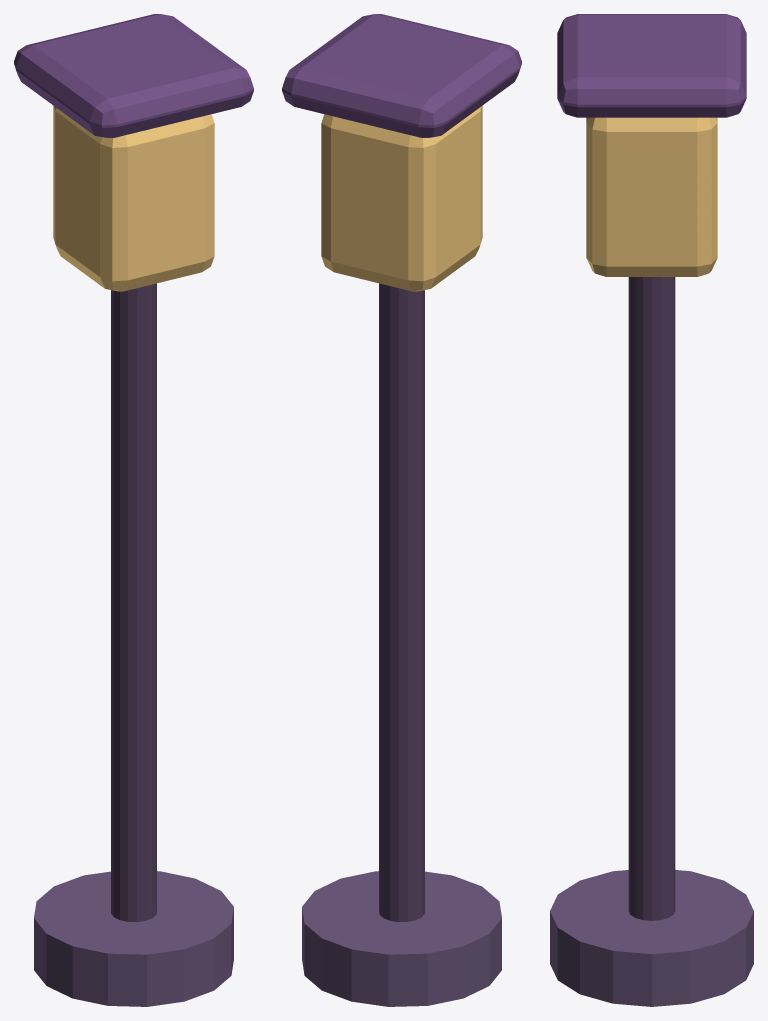
Rendered from Lantern.glb.
3 views of the same model, side by side, from view 1: azimuth 30°, elevation 25°; view 2: azimuth 150°, elevation 25°; view 3: azimuth 270°, elevation 25° (orthographic).
Parts seen in each view (by area): view 1: Post.024, Lamp, Foot.005, Cap; view 2: Post.024, Lamp, Foot.005, Cap; view 3: Post.024, Foot.005, Lamp, Cap.
Boxes of the visible parts, x1,y1,x2,y2 form: Post.024: [111, 283, 156, 921]; Lamp: [53, 106, 214, 291]; Foot.005: [34, 871, 233, 1006]; Cap: [14, 14, 253, 137]; Post.024: [379, 283, 424, 921]; Lamp: [321, 106, 482, 291]; Foot.005: [302, 871, 501, 1006]; Cap: [282, 14, 521, 137]; Post.024: [628, 277, 675, 920]; Foot.005: [550, 870, 753, 1006]; Lamp: [586, 117, 717, 276]; Cap: [557, 14, 746, 117].
Size of the model in its own units: 0.7 by 3.48 by 0.7.
